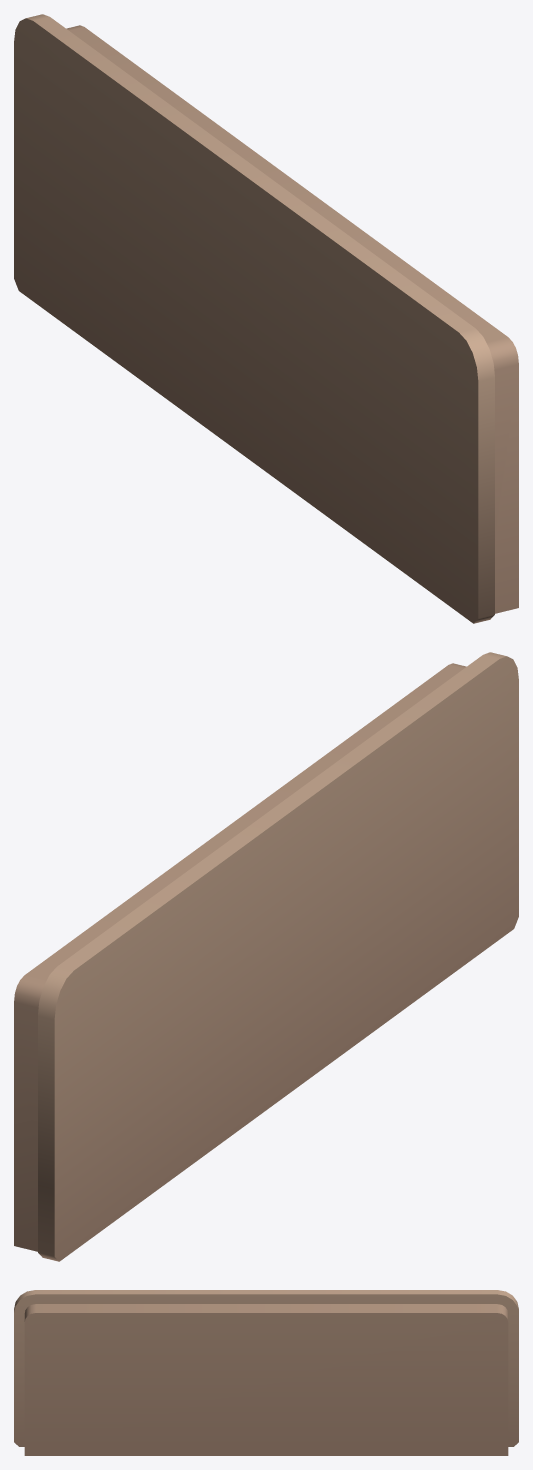
Rendered from bed-backboard-basic-wide.glb.
The picture shows the model from 3 angles, top to bottom: view 1: azimuth 30°, elevation 25°; view 2: azimuth 150°, elevation 25°; view 3: azimuth 270°, elevation 25°; orthographic projection. The views are drawn at different scales.
Visible parts, largest first — view 1: bed-backboard-basic-wide; view 2: bed-backboard-basic-wide; view 3: bed-backboard-basic-wide.
Part boxes in pixels (x1,y1,x2,y2): bed-backboard-basic-wide: (14, 14, 518, 623); bed-backboard-basic-wide: (14, 652, 518, 1261); bed-backboard-basic-wide: (14, 1290, 518, 1455).
Bounding box in the file's own units: 0.15 × 0.8 × 2.4.
